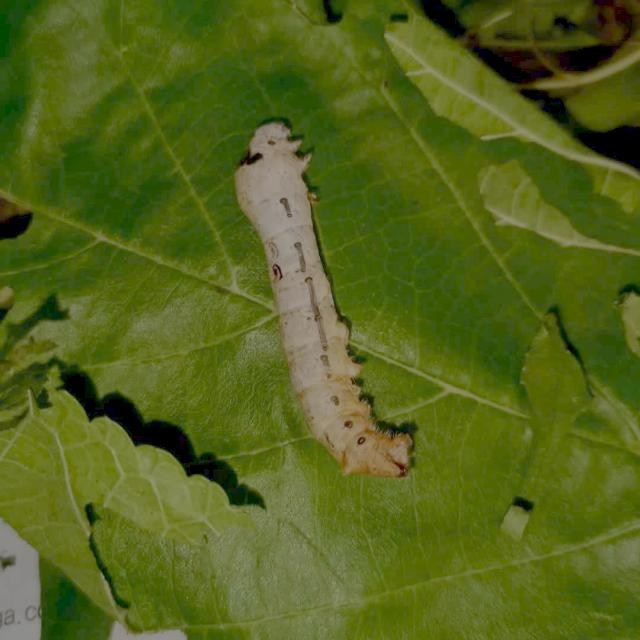Grasserie: (171, 83, 458, 540)
